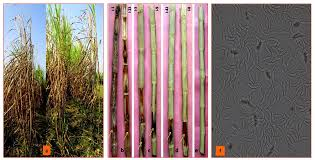Red-Rot: (109, 5, 208, 156)
